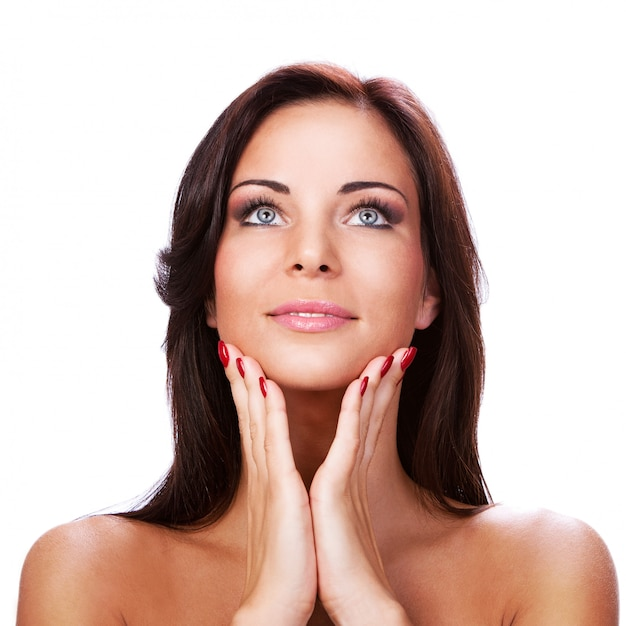young: (161, 52, 456, 398)
